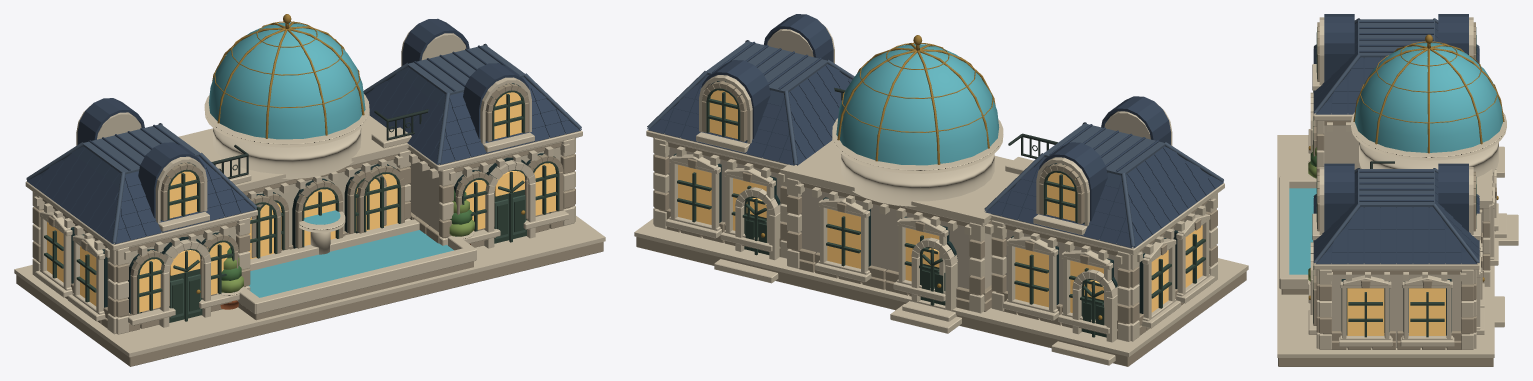
3 views of the same model, side by side, from view 1: azimuth 30°, elevation 25°; view 2: azimuth 150°, elevation 25°; view 3: azimuth 270°, elevation 25° (orthographic). The views are drawn at different scales.
Visible parts, largest first — view 1: classic_onsen_3_geometry; view 2: classic_onsen_3_geometry; view 3: classic_onsen_3_geometry.
Part boxes in pixels (x1=…): classic_onsen_3_geometry: x1=14, y1=14, x2=605, y2=366; classic_onsen_3_geometry: x1=634, y1=14, x2=1248, y2=366; classic_onsen_3_geometry: x1=1277, y1=14, x2=1518, y2=366.
Bounding box in the file's own units: 2.2 × 1.04 × 1.02.
